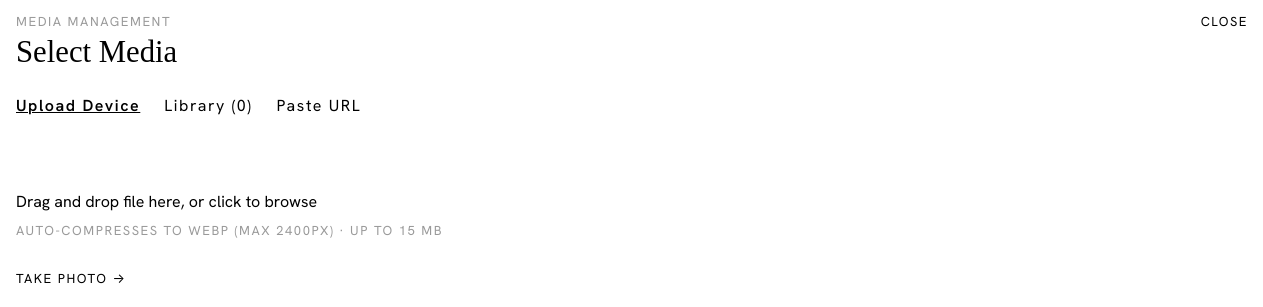
Test: choose from library › shows an honest empty state when the library has zero assets
Click the button "Library (0)".
click(208, 106)  # box [164,94,252,117]
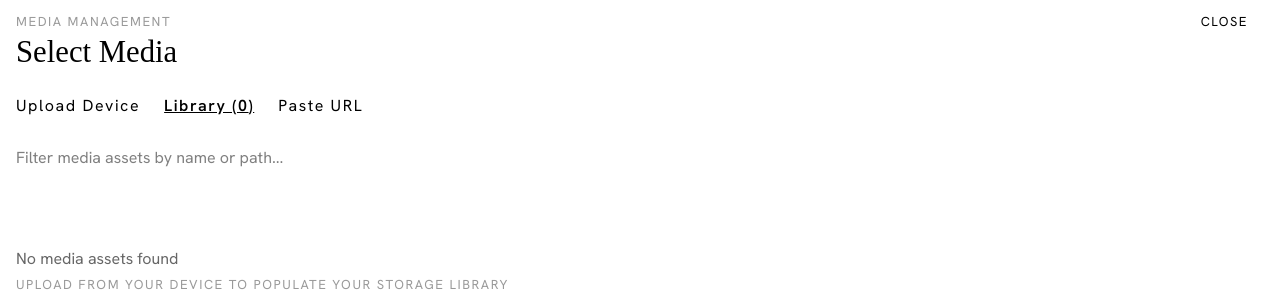
Expected: the text "No media assets found" is shown, [16,248,178,270]
